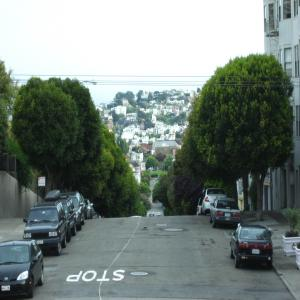Vehicle-registration-plate: (253, 249, 261, 255), (38, 242, 44, 246), (226, 214, 232, 217)
